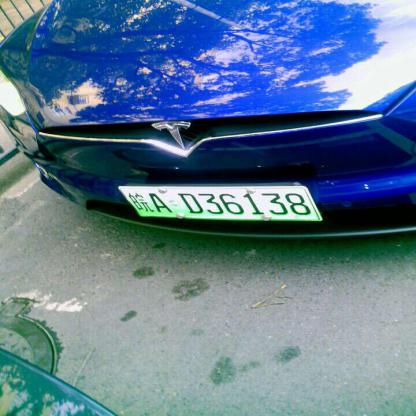lp: (121, 188, 319, 218)
